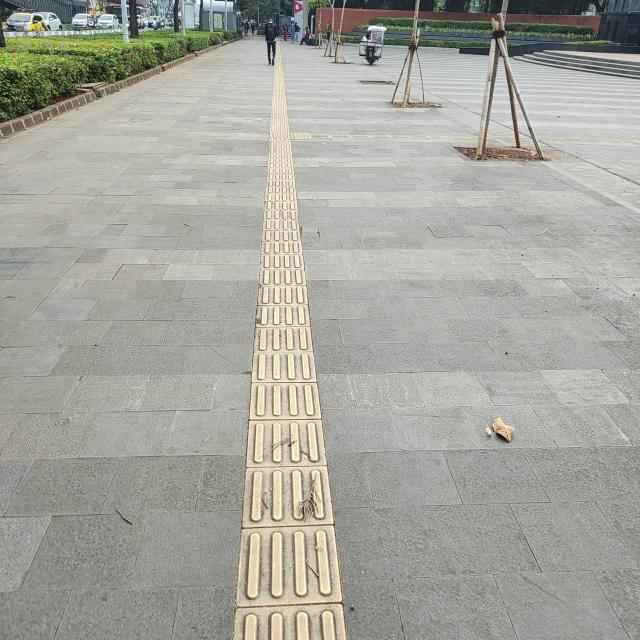lurus: (242, 135, 331, 640)
